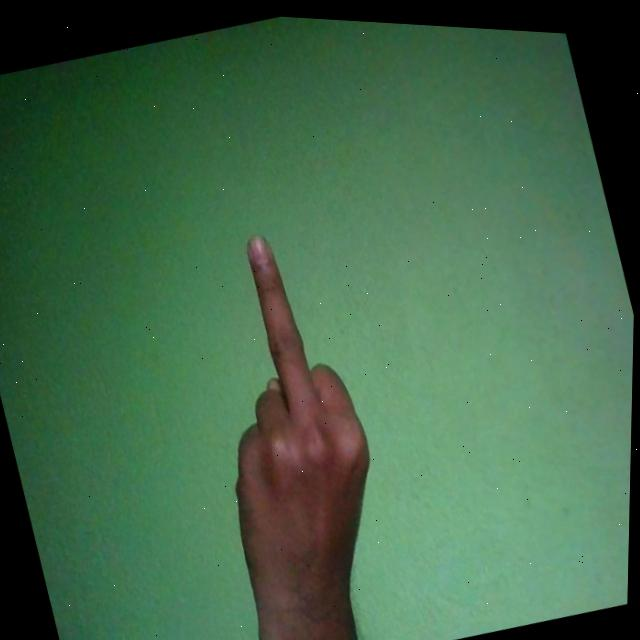Middle Finger: (163, 210, 422, 640)
